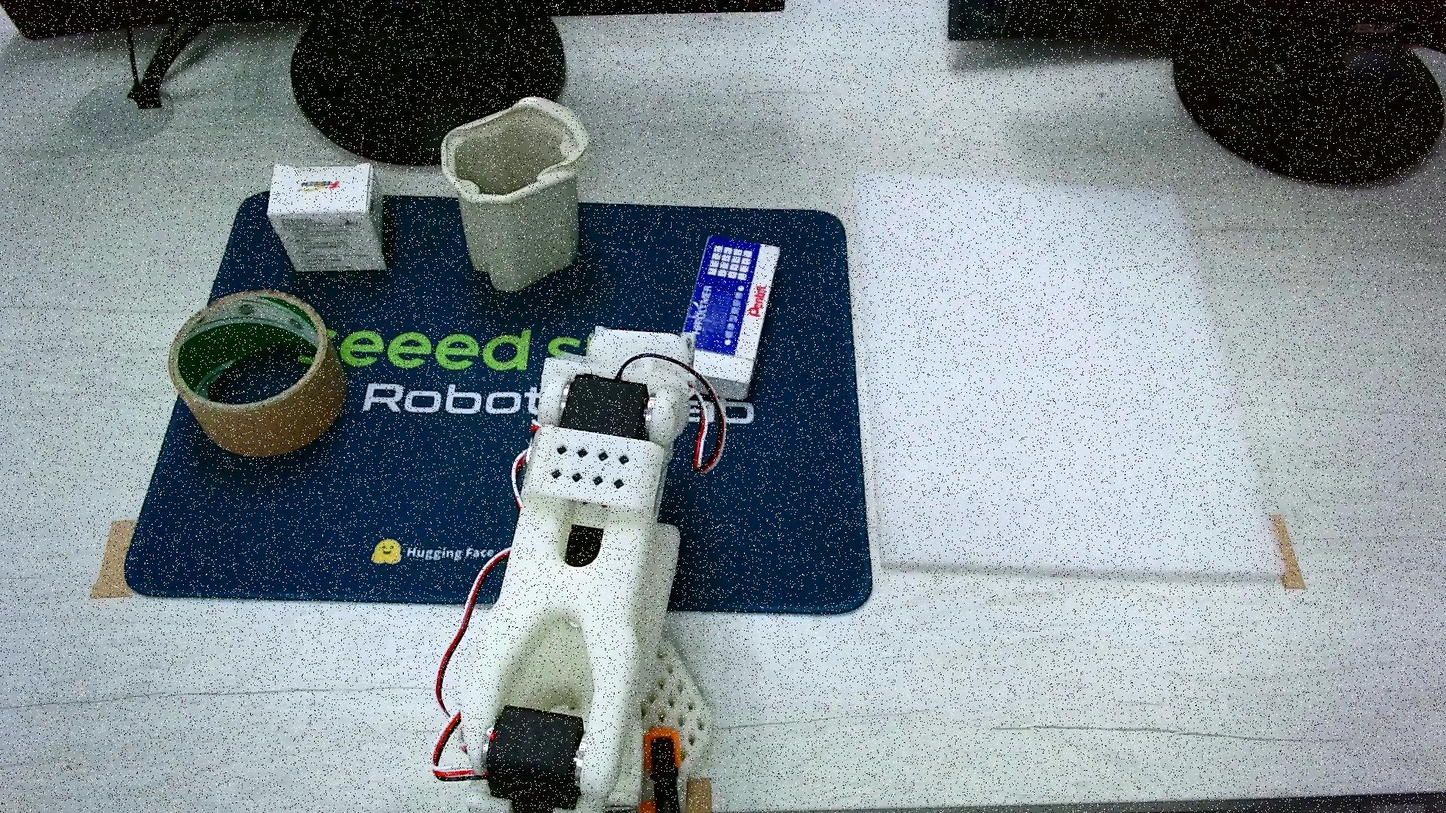eraser: (267, 164, 386, 270)
